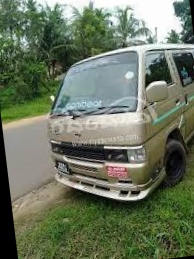van: (38, 37, 194, 215)
